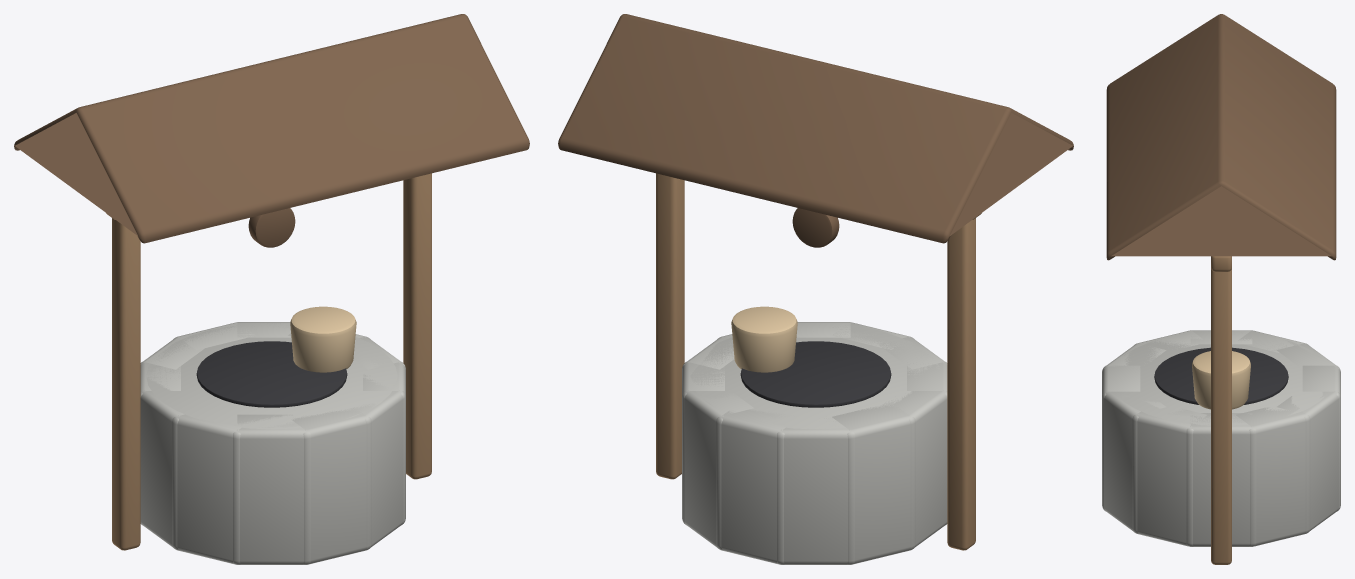
File: ido.glb
The picture shows the model from 3 angles, left to right: view 1: azimuth 30°, elevation 25°; view 2: azimuth 150°, elevation 25°; view 3: azimuth 270°, elevation 25°; orthographic projection. The views are drawn at different scales.
Parts seen in each view (by area): view 1: ido; view 2: ido; view 3: ido.
Boxes of the visible parts, x1,y1,x2,y2 form: ido: (14, 14, 529, 564); ido: (558, 14, 1073, 564); ido: (1102, 14, 1340, 564).
Bounding box in the file's own units: 2.28 × 2.51 × 1.35.
